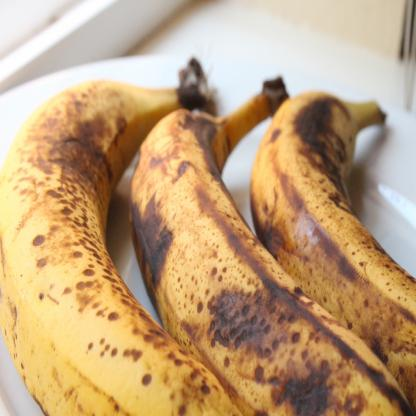Banana: (132, 77, 414, 415), (2, 56, 242, 416)
